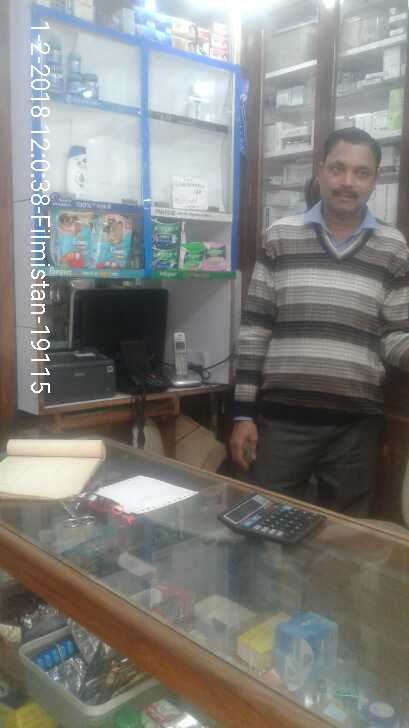vicks: (45, 41, 101, 102)
